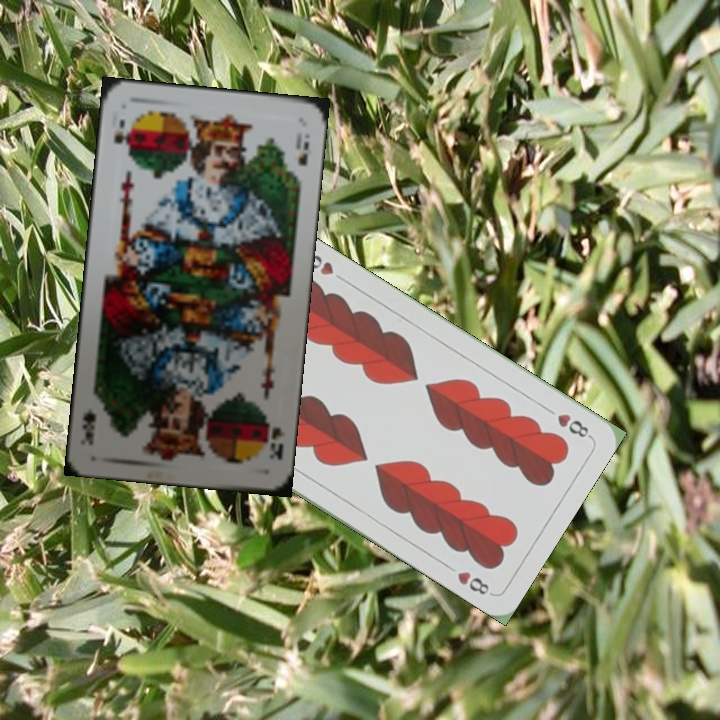H8: (553, 409, 594, 441)
SK: (261, 423, 288, 463), (109, 114, 131, 147)
